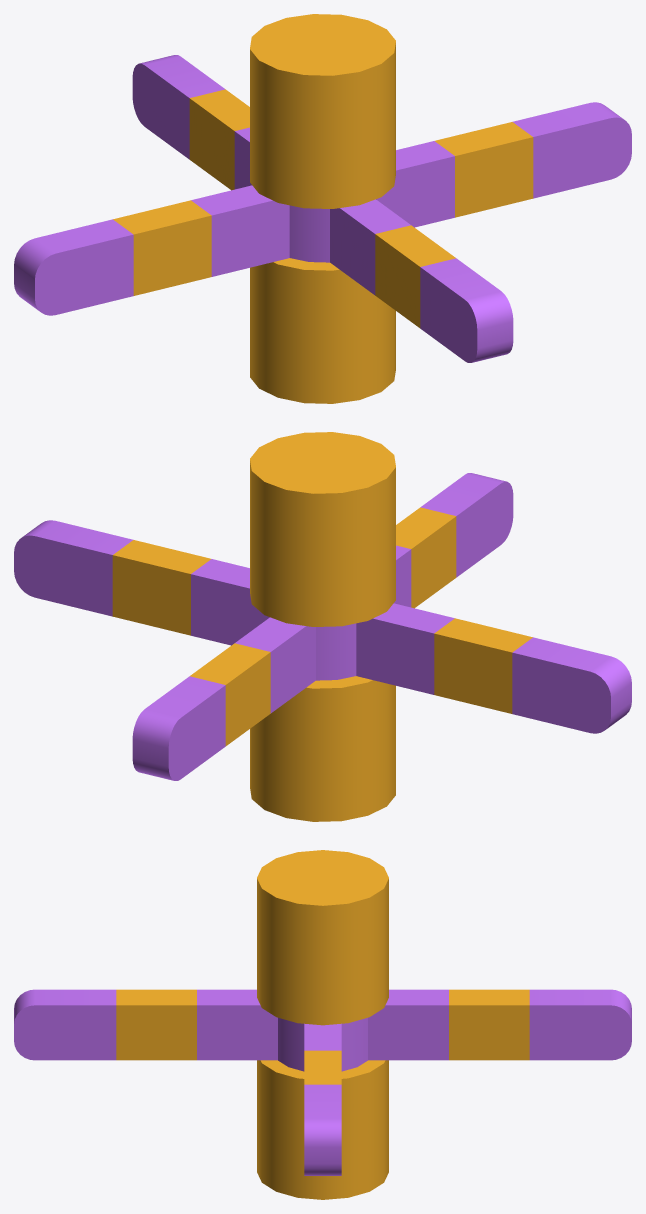
The model's file is Blades B Small.fbx.
The picture shows the model from 3 angles, top to bottom: view 1: azimuth 30°, elevation 25°; view 2: azimuth 150°, elevation 25°; view 3: azimuth 270°, elevation 25°; orthographic projection. The views are drawn at different scales.
Parts seen in each view (by area): view 1: Blades B Small.001, Blades B Small; view 2: Blades B Small.001, Blades B Small; view 3: Blades B Small.001, Blades B Small.
Part boxes in pixels (left/top/right/bottom): Blades B Small.001: left=14, top=55, right=631, bottom=362; Blades B Small: left=250, top=14, right=395, bottom=403; Blades B Small.001: left=14, top=473, right=631, bottom=780; Blades B Small: left=250, top=432, right=395, bottom=821; Blades B Small.001: left=14, top=989, right=631, bottom=1175; Blades B Small: left=257, top=850, right=388, bottom=1199.
Bounding box in the file's own units: 200 × 105 × 200.
